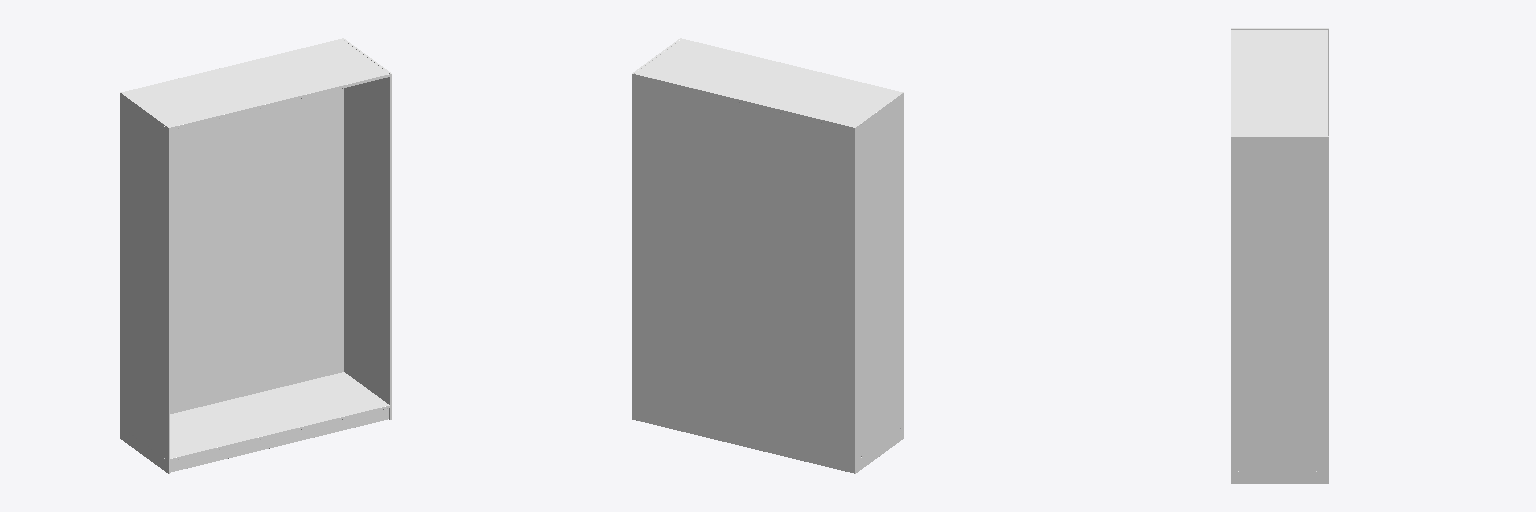
Rendered from B07GFW9GFX_part_1.obj.
3 views of the same model, side by side, from view 1: azimuth 30°, elevation 25°; view 2: azimuth 150°, elevation 25°; view 3: azimuth 270°, elevation 25° (orthographic).
Bounding box in the file's own units: 1.09 × 1.62 × 0.4113.